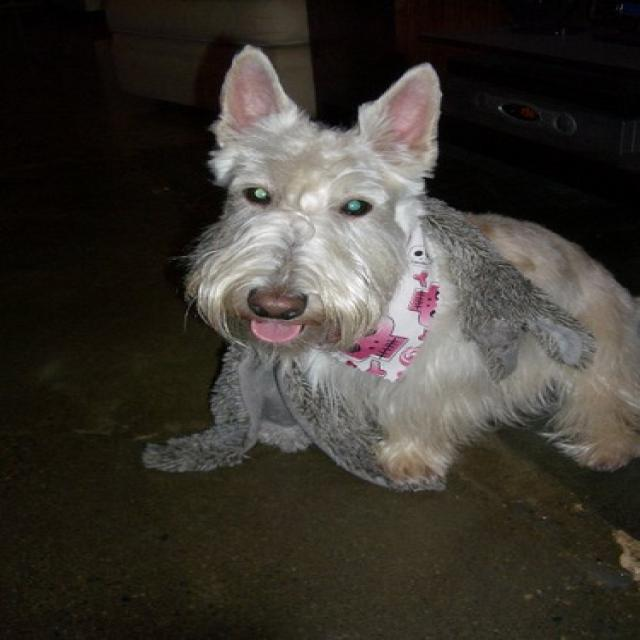dog-scottish_terrier: (177, 35, 637, 499)
